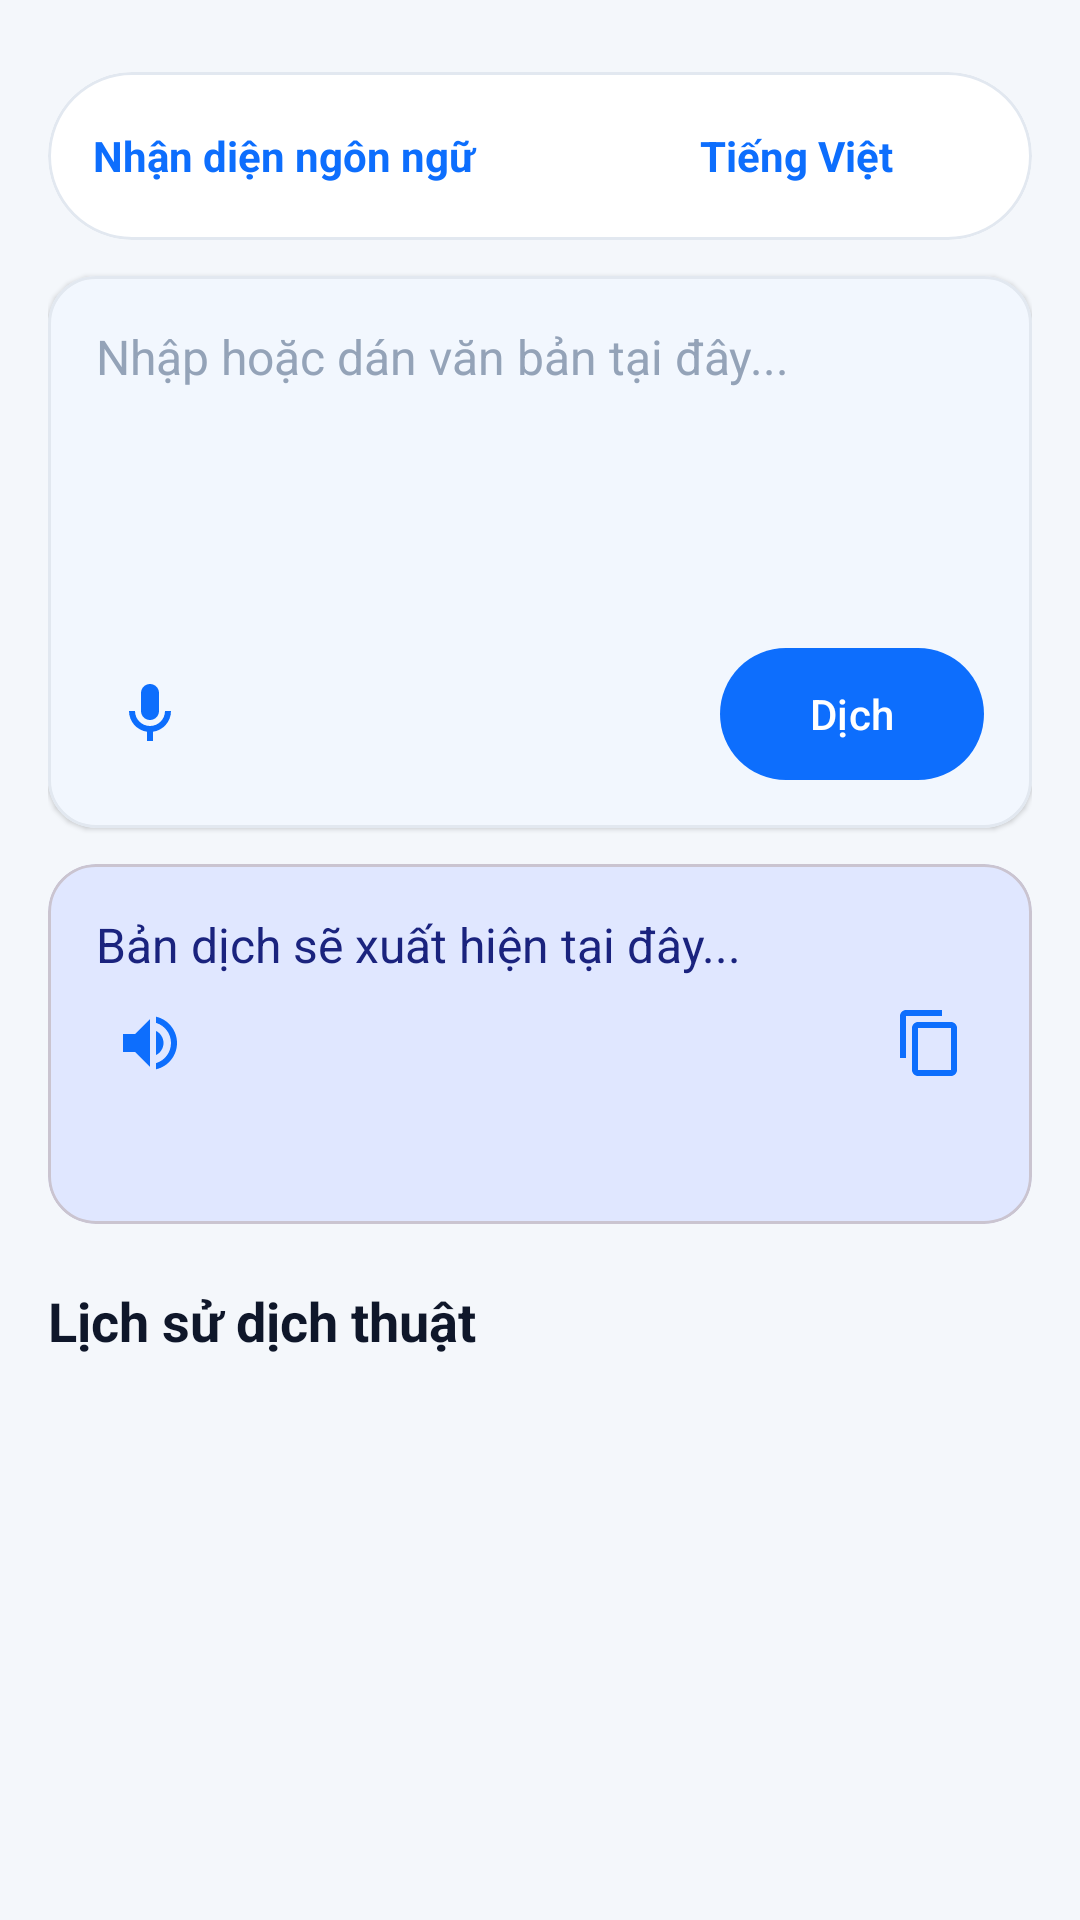

Named icons in this screenshot (1080*1920) and their bounding boxes, (x1, y1, x2, y2):
Copy translation: (900, 1010, 957, 1076)
speaker: (123, 1016, 177, 1070)
Voice input: (129, 684, 171, 741)
